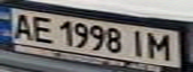1: (54, 18, 75, 47)
8: (103, 25, 127, 55)
9: (87, 22, 109, 52), (69, 20, 90, 50)
A: (6, 10, 36, 40)
E: (27, 14, 57, 43)
I: (124, 27, 151, 57)
M: (145, 29, 178, 61)
